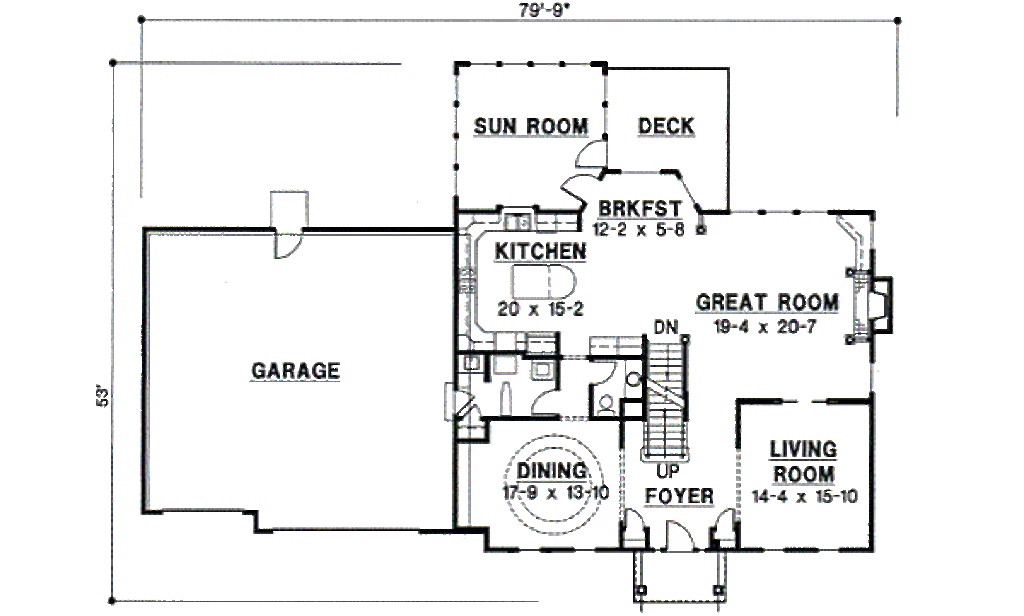door: (265, 224, 306, 262), (559, 170, 603, 205), (659, 515, 693, 556), (574, 138, 607, 171), (527, 388, 562, 417)
large_sink: (595, 390, 619, 419)
small_sink: (625, 358, 642, 402)
stairs: (640, 334, 694, 460)
